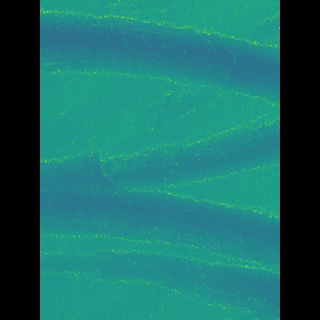Loch: (68, 191, 249, 320), (70, 5, 250, 103), (70, 112, 249, 193)
